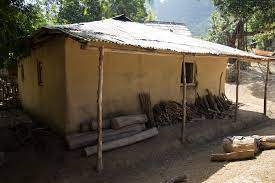Mud House: (9, 17, 267, 154)
